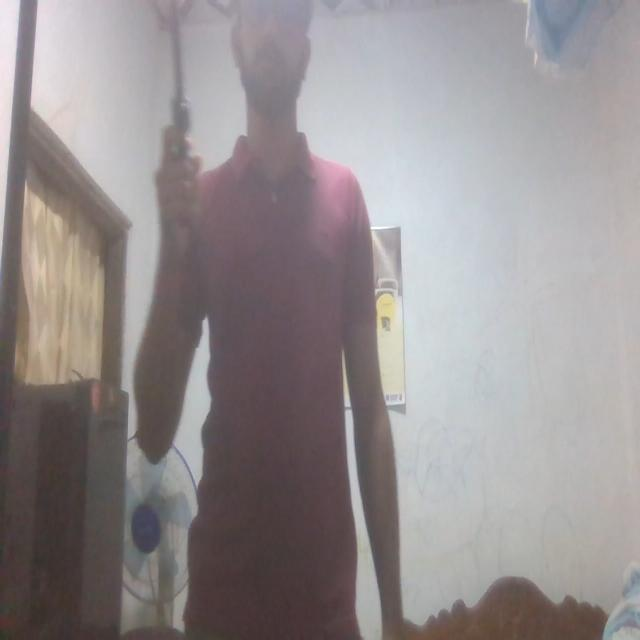Gun_Holder: (145, 10, 215, 245)
Person: (140, 0, 402, 640)
